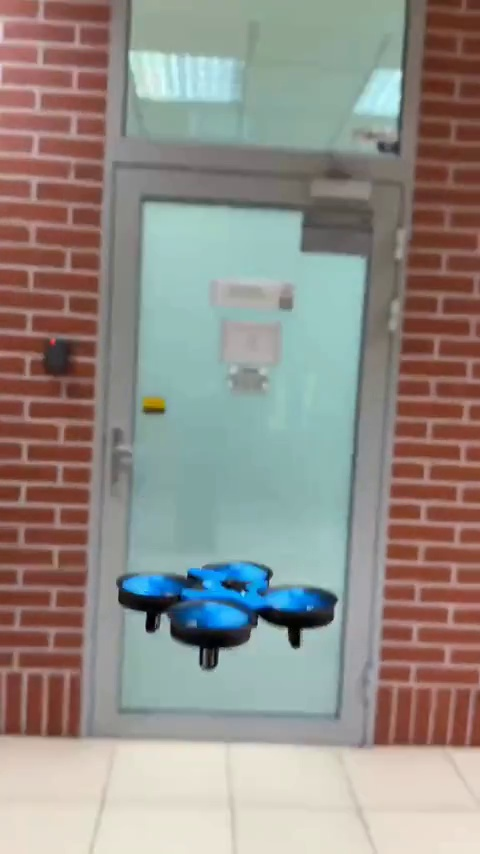drone: (117, 554, 342, 671)
